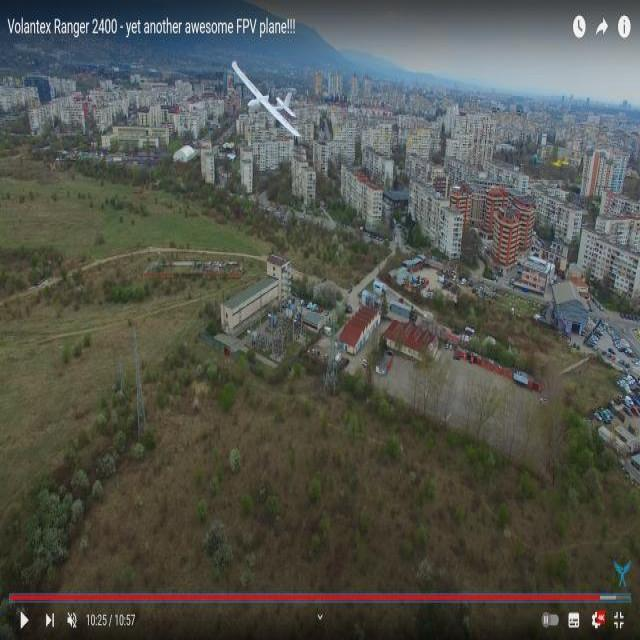UAV: (233, 50, 315, 145)
